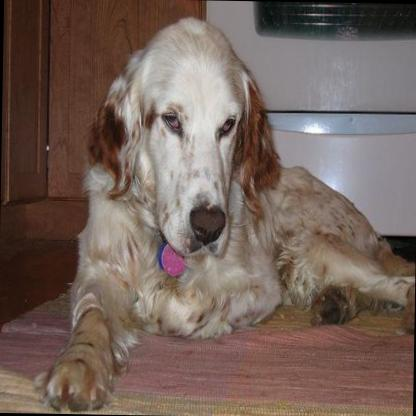English_setter: (28, 9, 416, 415)
